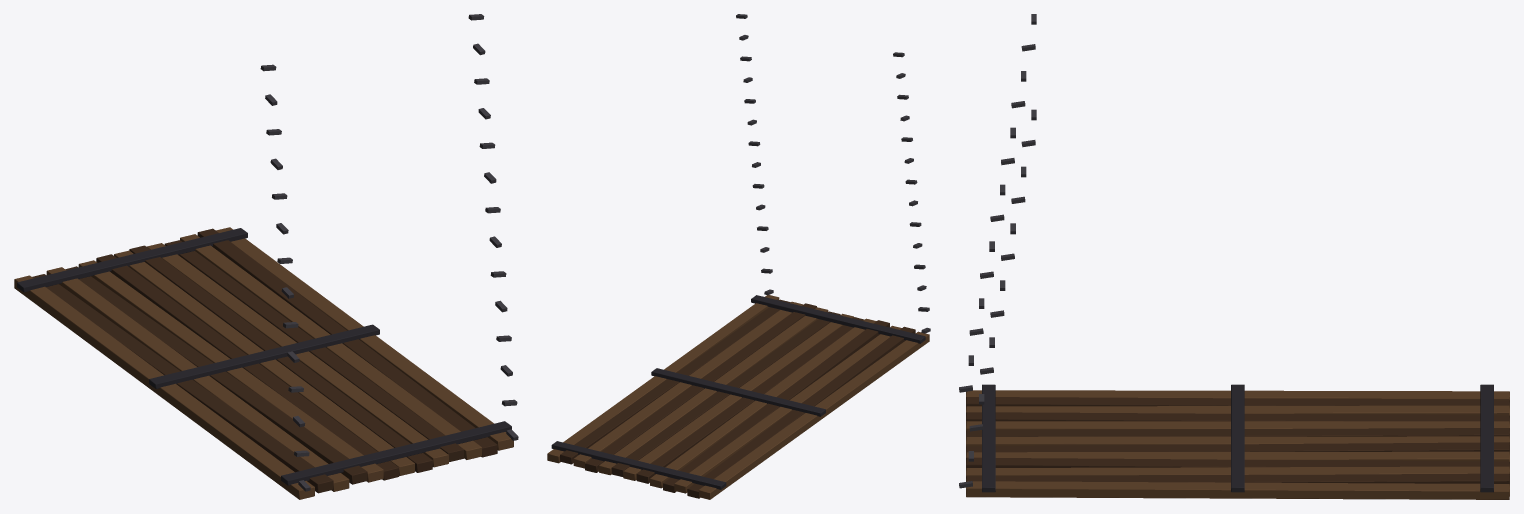
Rendered from drawbridge.glb.
3 views of the same model, side by side, from view 1: azimuth 30°, elevation 25°; view 2: azimuth 150°, elevation 25°; view 3: azimuth 270°, elevation 25° (orthographic). The views are drawn at different scales.
Parts seen in each view (by area): view 1: drawbridge; view 2: drawbridge; view 3: drawbridge.
Boxes of the visible parts, x1,y1,x2,y2 form: drawbridge: (14,14,518,499); drawbridge: (547,14,930,499); drawbridge: (959,14,1509,499).
Bounding box in the file's own units: 5.4 × 9.42 × 12.16.
